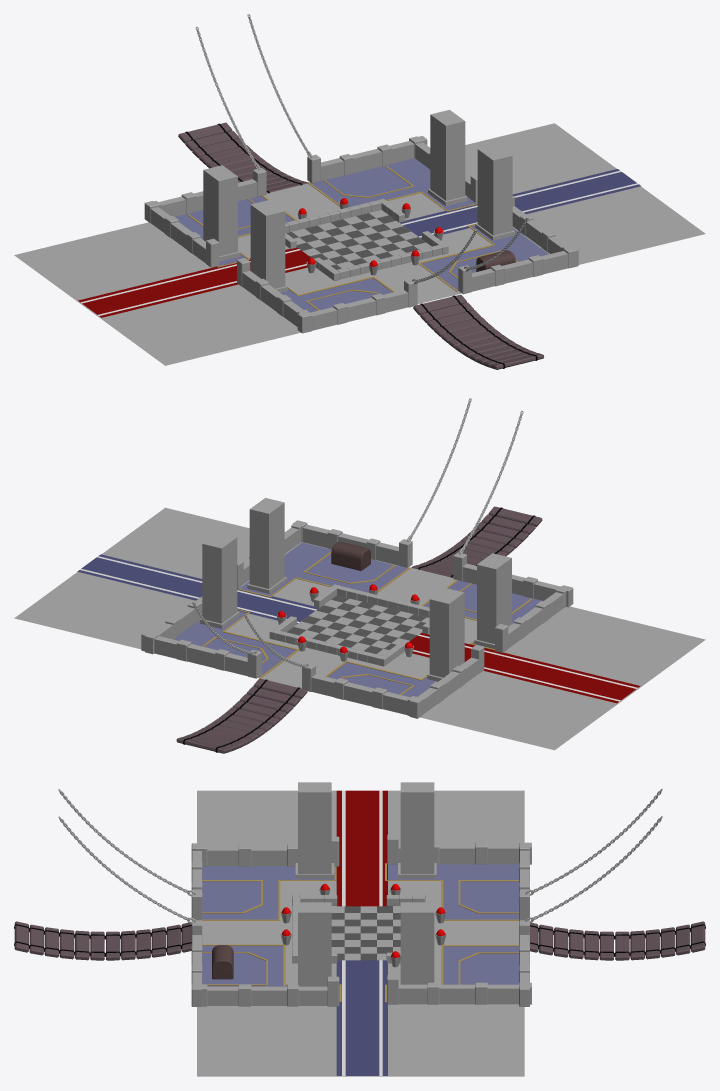
File: Tabuleiro_Teste.fbx
3 views of the same model, one above another, from view 1: azimuth 30°, elevation 25°; view 2: azimuth 150°, elevation 25°; view 3: azimuth 270°, elevation 25° (orthographic). The views are drawn at different scales.
Parts seen in each view (by area): view 1: pPlane1, pCube2, pCube56, pPlane9, pPlane10, pPlane5, pCube57, pCube75, pCube76, pCube78, pCube77, pCube81 (+10 smaller); view 2: pPlane1, pCube2, pCube57, pPlane9, pPlane10, pPlane6, pCube56, pCube76, pCube75, pCube78, pCube77, pCube79 (+11 smaller); view 3: pPlane1, pPlane10, pPlane9, pCube56, pCube57, pPlane8, pPlane7, pCube2, pCube78, pCube77, pPlane5, pCube84 (+15 smaller).
Boxes of the visible parts, x1,y1,x2,y2 form: pPlane1: [14, 123, 705, 365]; pCube2: [286, 210, 431, 269]; pCube56: [413, 294, 543, 369]; pPlane9: [400, 169, 640, 238]; pPlane10: [78, 247, 310, 317]; pPlane5: [306, 158, 477, 211]; pCube57: [178, 122, 307, 193]; pCube75: [428, 110, 467, 206]; pCube76: [475, 144, 514, 240]; pCube78: [203, 165, 240, 261]; pCube77: [250, 200, 287, 292]; pCube81: [297, 278, 417, 333]; pPlane1: [14, 507, 705, 750]; pCube2: [286, 595, 429, 655]; pCube57: [176, 678, 307, 753]; pPlane9: [77, 554, 318, 623]; pPlane10: [409, 632, 640, 703]; pPlane6: [238, 542, 410, 597]; pCube56: [411, 506, 542, 577]; pCube76: [247, 498, 287, 593]; pCube75: [200, 532, 239, 628]; pCube78: [427, 588, 464, 681]; pCube77: [474, 553, 511, 648]; pCube79: [141, 631, 261, 678]; pPlane1: [197, 790, 524, 1076]; pPlane10: [336, 790, 387, 906]; pPlane9: [336, 960, 387, 1075]; pCube56: [14, 921, 191, 960]; pCube57: [530, 921, 705, 960]; pPlane8: [385, 863, 519, 920]; pPlane7: [202, 866, 336, 920]; pCube2: [331, 906, 400, 960]; pCube78: [398, 782, 436, 878]; pCube77: [295, 782, 334, 878]; pPlane5: [385, 945, 519, 1002]; pCube84: [387, 974, 531, 1004].
Size of the model in its own units: 526 by 126 by 538.
